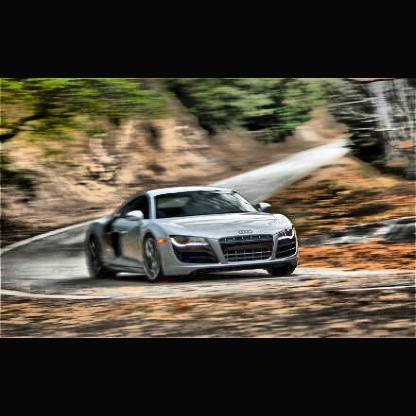Audi R8 Coupe 2012: (84, 184, 304, 288)
